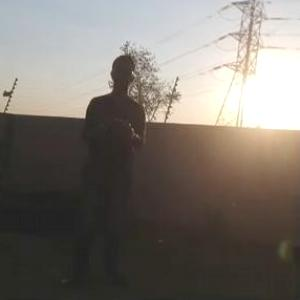follow: (58, 45, 150, 286)
